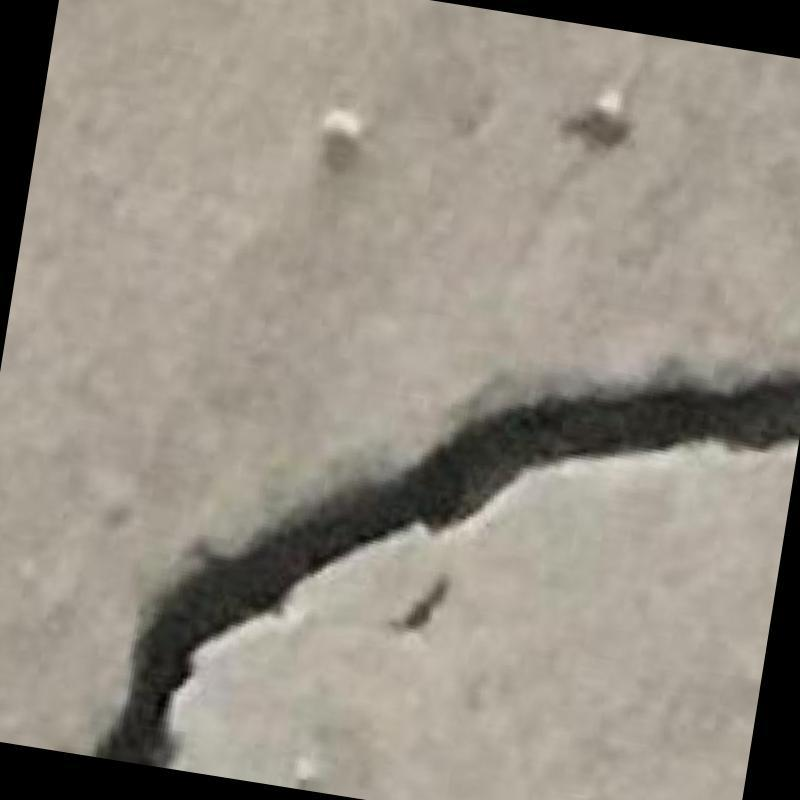crack: (93, 371, 800, 765)
